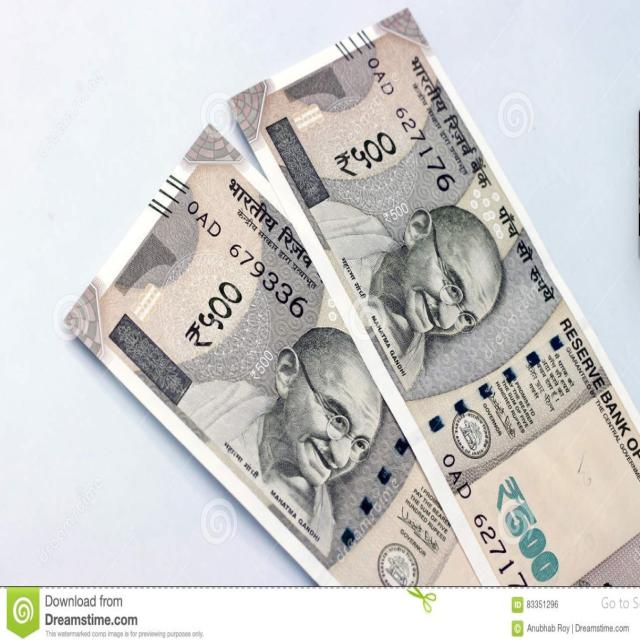500IndianRupees: (85, 221, 377, 502)
